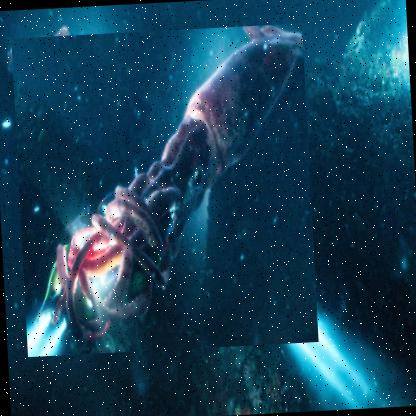colossal_squid: (9, 23, 318, 358)
